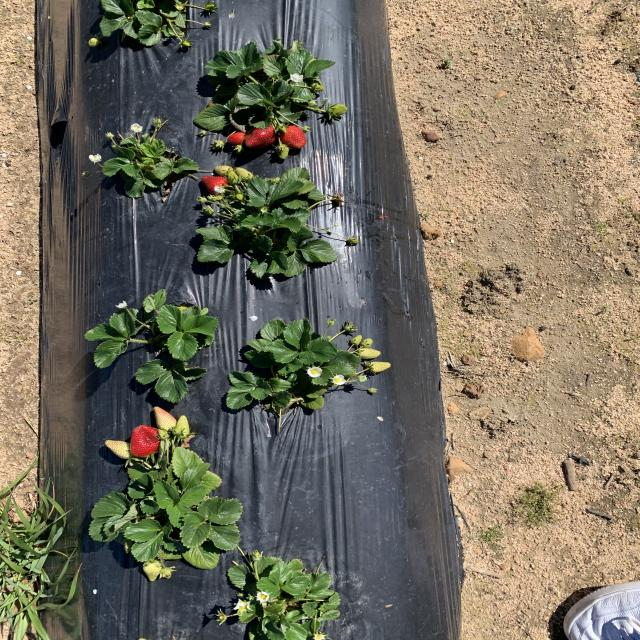unripe: (130, 424, 162, 455), (277, 122, 308, 149), (244, 124, 276, 149), (199, 172, 232, 195), (226, 131, 248, 146)
